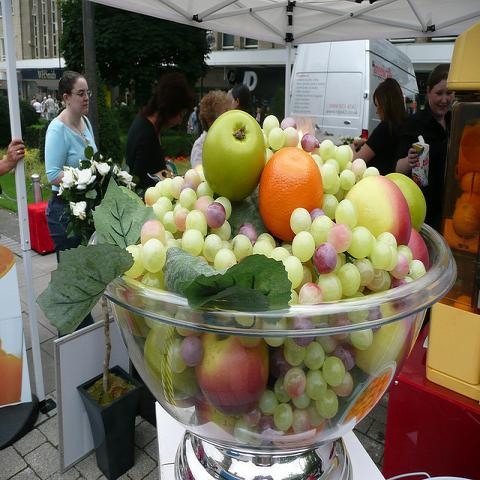truck: (286, 37, 420, 139)
